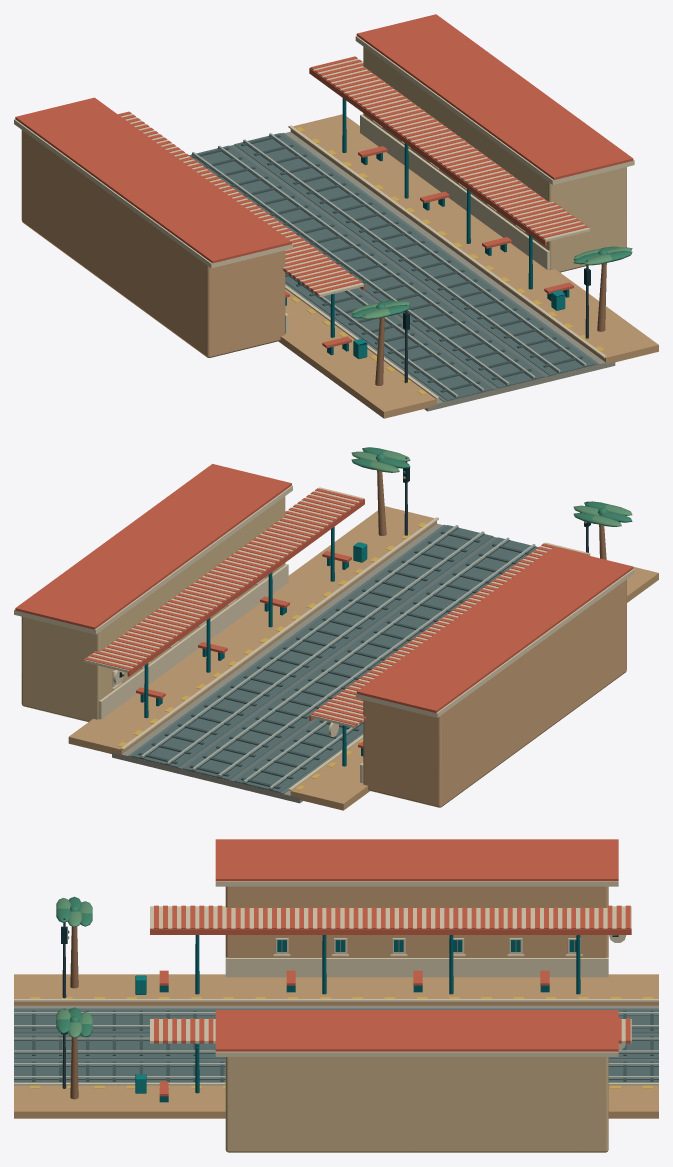
Rendered from station-0.glb.
3 views of the same model, one above another, from view 1: azimuth 30°, elevation 25°; view 2: azimuth 150°, elevation 25°; view 3: azimuth 270°, elevation 25° (orthographic). The views are drawn at different scales.
Parts seen in each view (by area): view 1: city-station-0; view 2: city-station-0; view 3: city-station-0.
Boxes of the visible parts, bbox=[...] form: city-station-0: bbox=[14, 14, 658, 418]; city-station-0: bbox=[14, 447, 658, 810]; city-station-0: bbox=[14, 839, 658, 1152].
Bounding box in the file's own units: 24.8 × 5.97 × 32.
